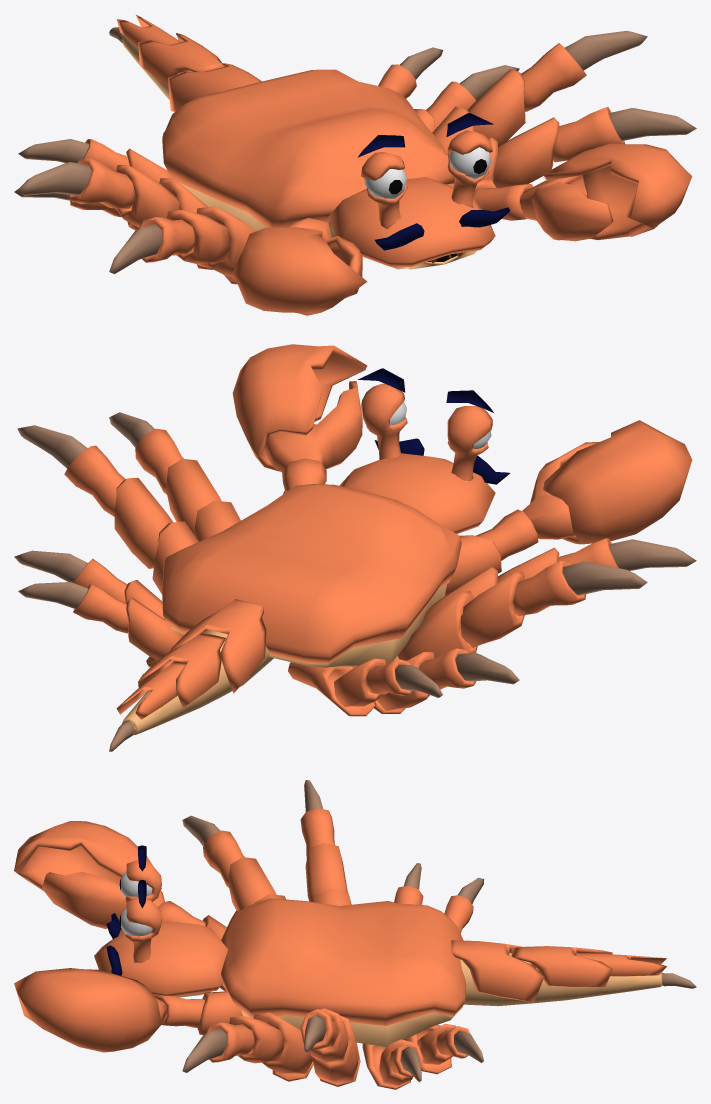
File: SM_Carb.001.fbx
The picture shows the model from 3 angles, top to bottom: view 1: azimuth 30°, elevation 25°; view 2: azimuth 150°, elevation 25°; view 3: azimuth 270°, elevation 25°; orthographic projection. The views are drawn at different scales.
Parts seen in each view (by area): view 1: SM_CARB; view 2: SM_CARB; view 3: SM_CARB.
Boxes of the visible parts, x1,y1,x2,y2 form: SM_CARB: (14, 14, 696, 315); SM_CARB: (14, 344, 696, 751); SM_CARB: (14, 780, 696, 1089).
Size of the model in its own units: 116 by 108 by 32.53.
